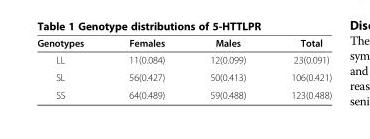table: (36, 36, 331, 100)
table column: (105, 36, 186, 100), (186, 36, 267, 100), (36, 36, 105, 100), (267, 36, 331, 100)
table column header: (36, 36, 331, 51)
table row: (36, 51, 331, 68), (36, 68, 331, 85), (36, 36, 331, 51), (36, 85, 331, 100)
